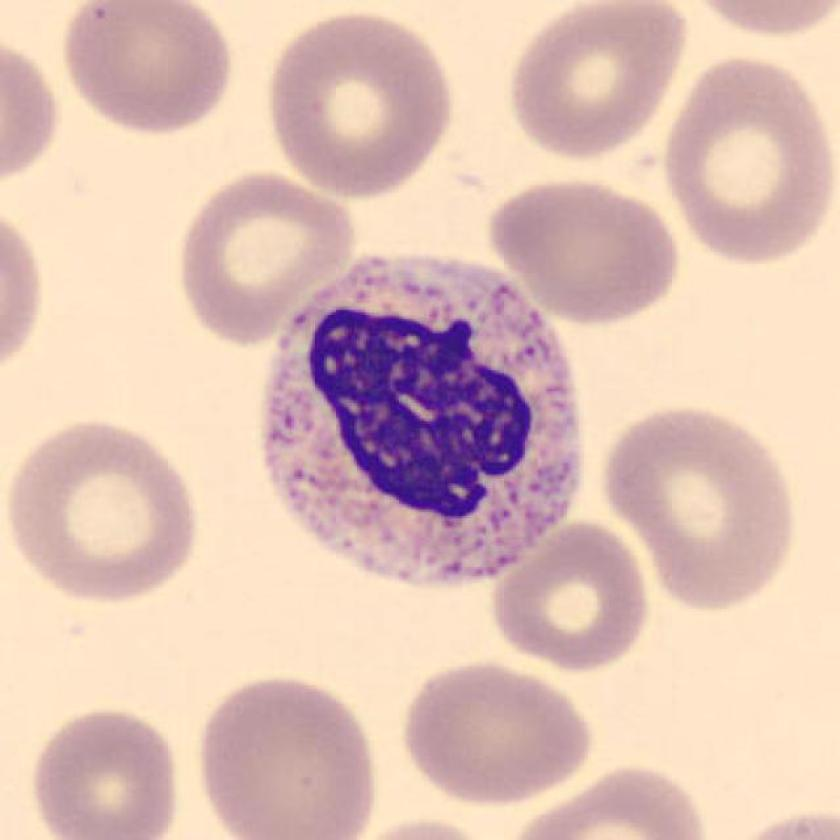neutrophil: (265, 257, 581, 581)
